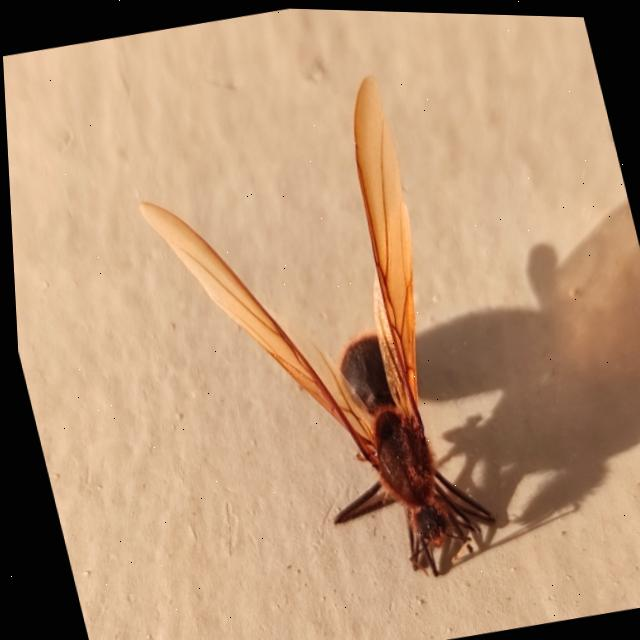Alive-Male-Alate: (115, 64, 505, 616)
